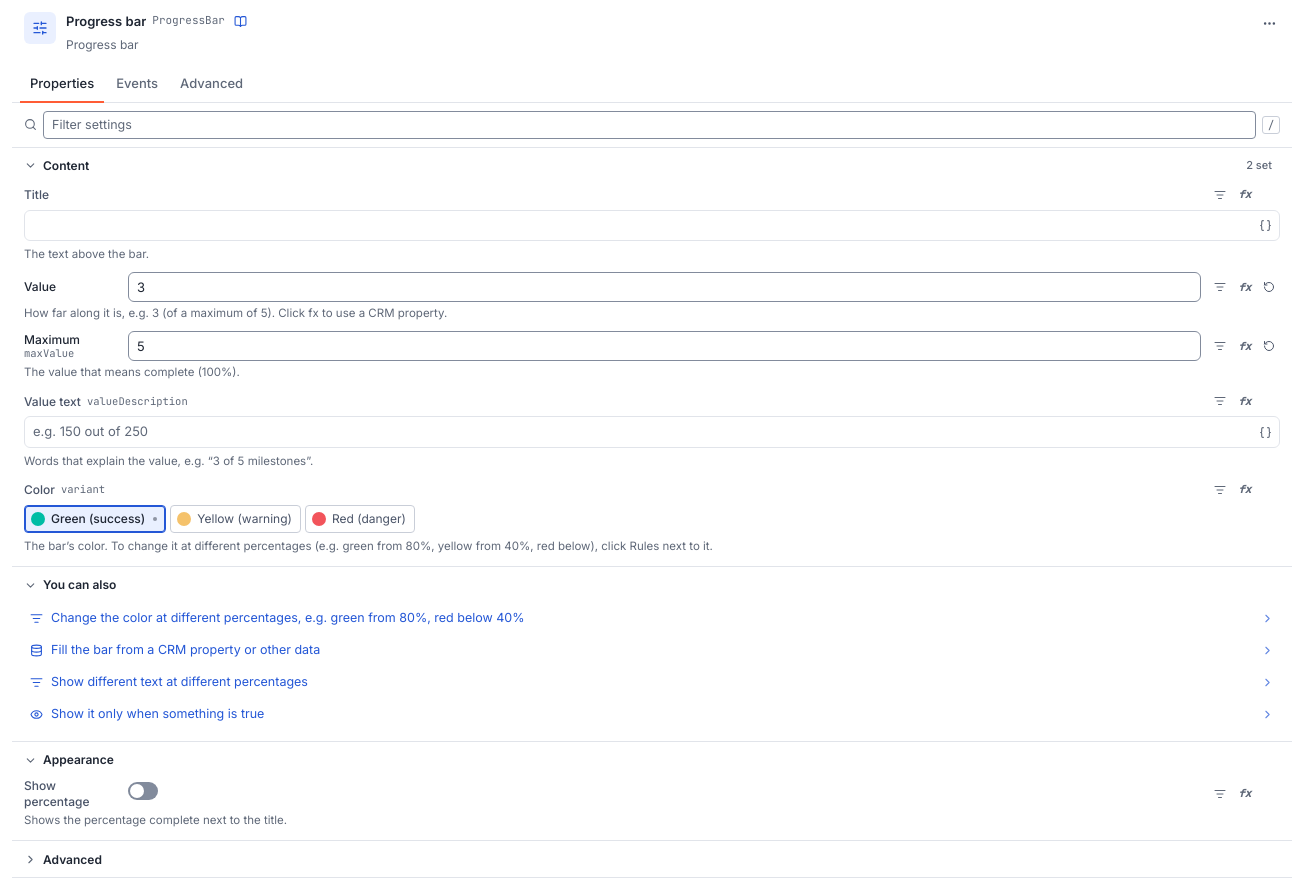
Test: plain labels, prop names and help text › hides help text from the header menu (remembered)
The image size is (1292, 879).
Click the button named "More actions". click: (1269,23)
box: [1258,12,1280,34]
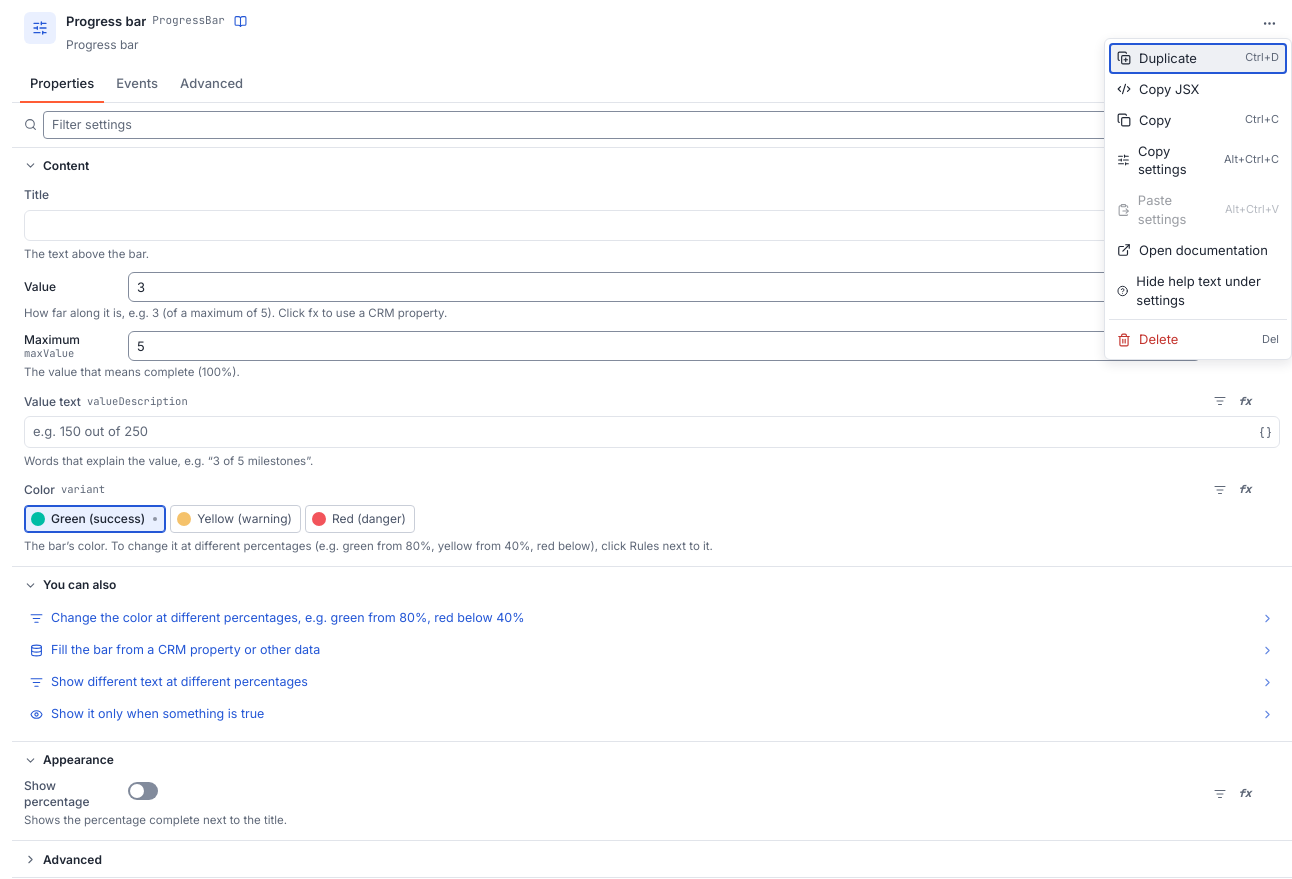
Click the menu item "Hide help text under settings". click: (1198,291)
box: [1109,266,1287,316]
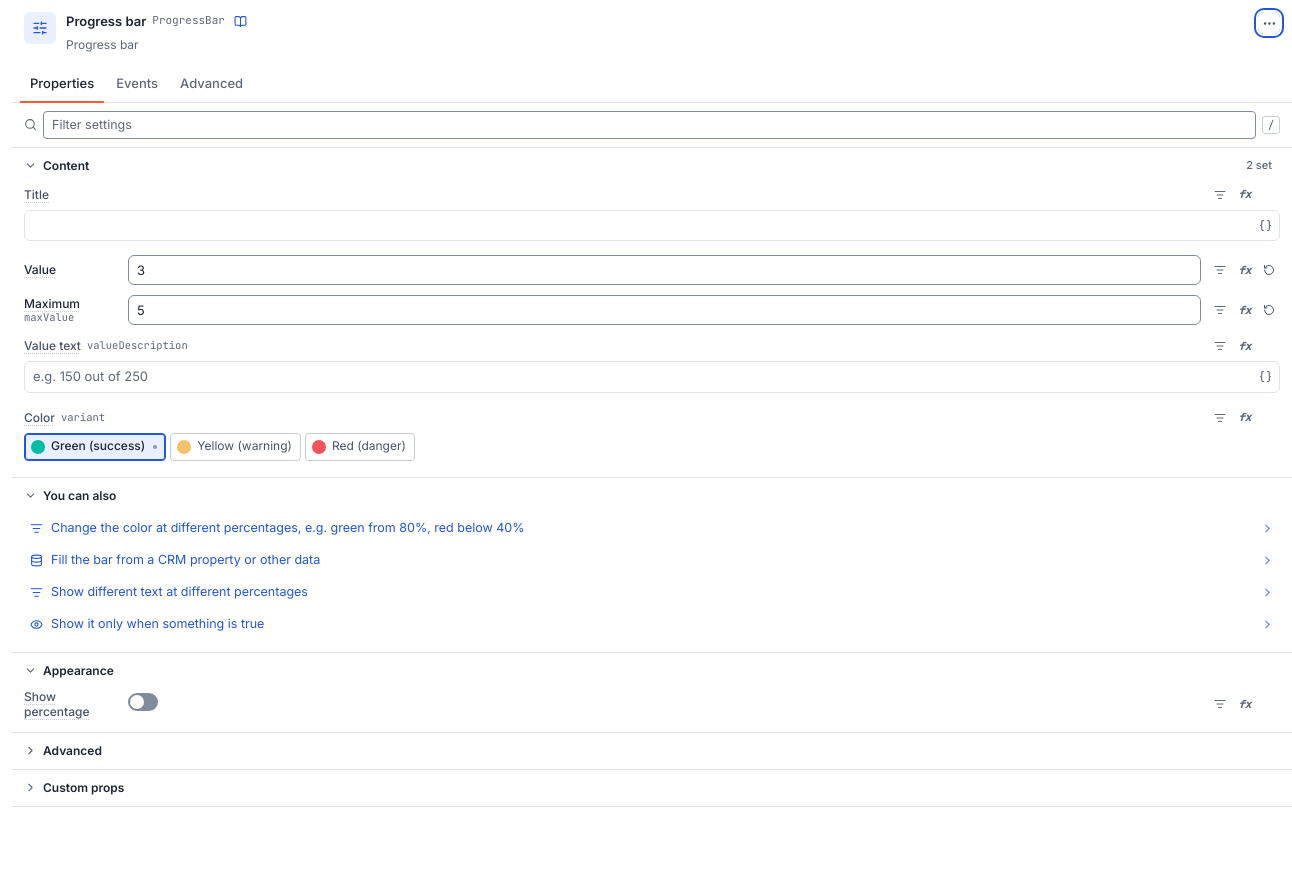
Expected: the text "The value that means complete" is gone
Click the button named "More actions". click: (1269,23)
box: [1258,12,1280,34]
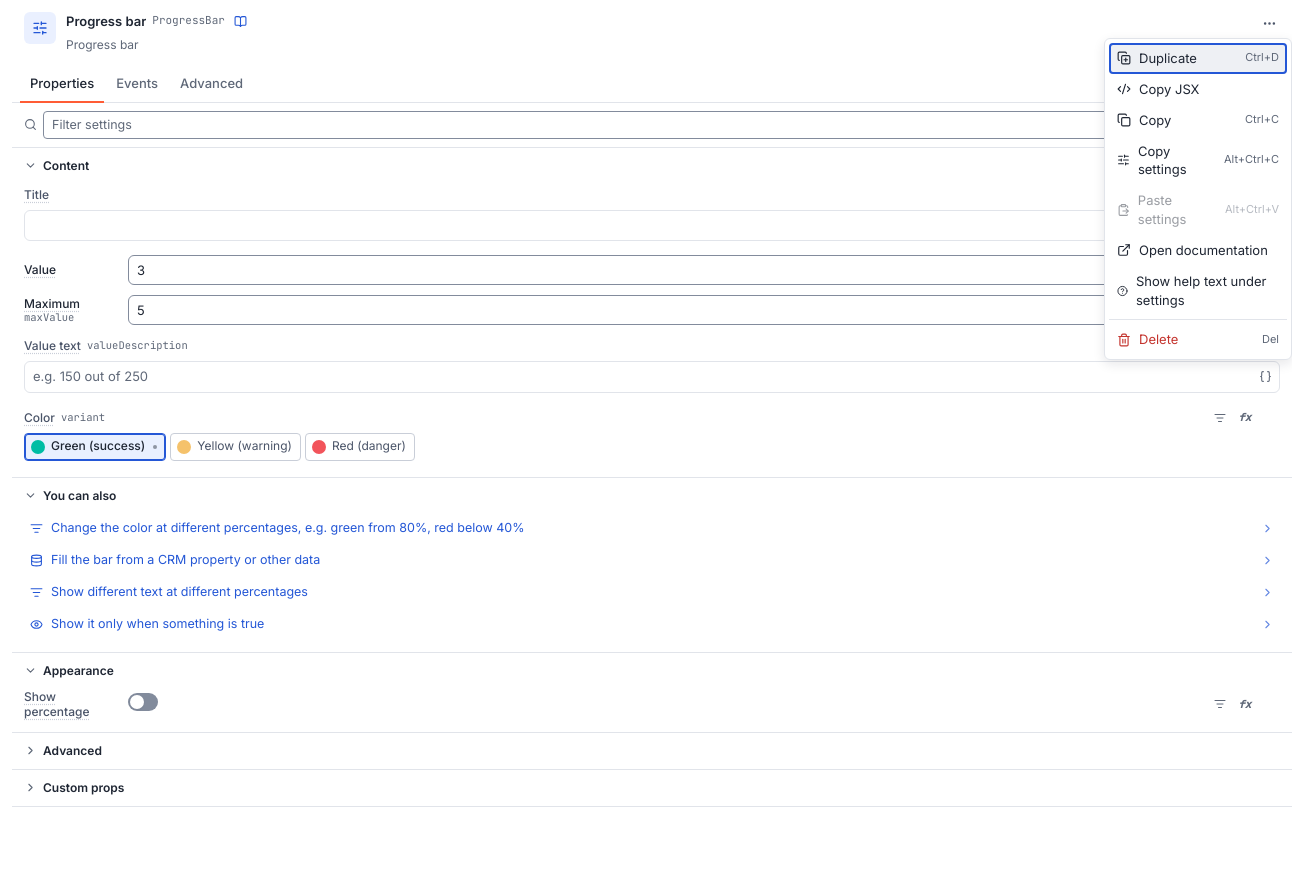
Click the menu item "Show help text under settings". click: (1198,291)
box: [1109,266,1287,316]
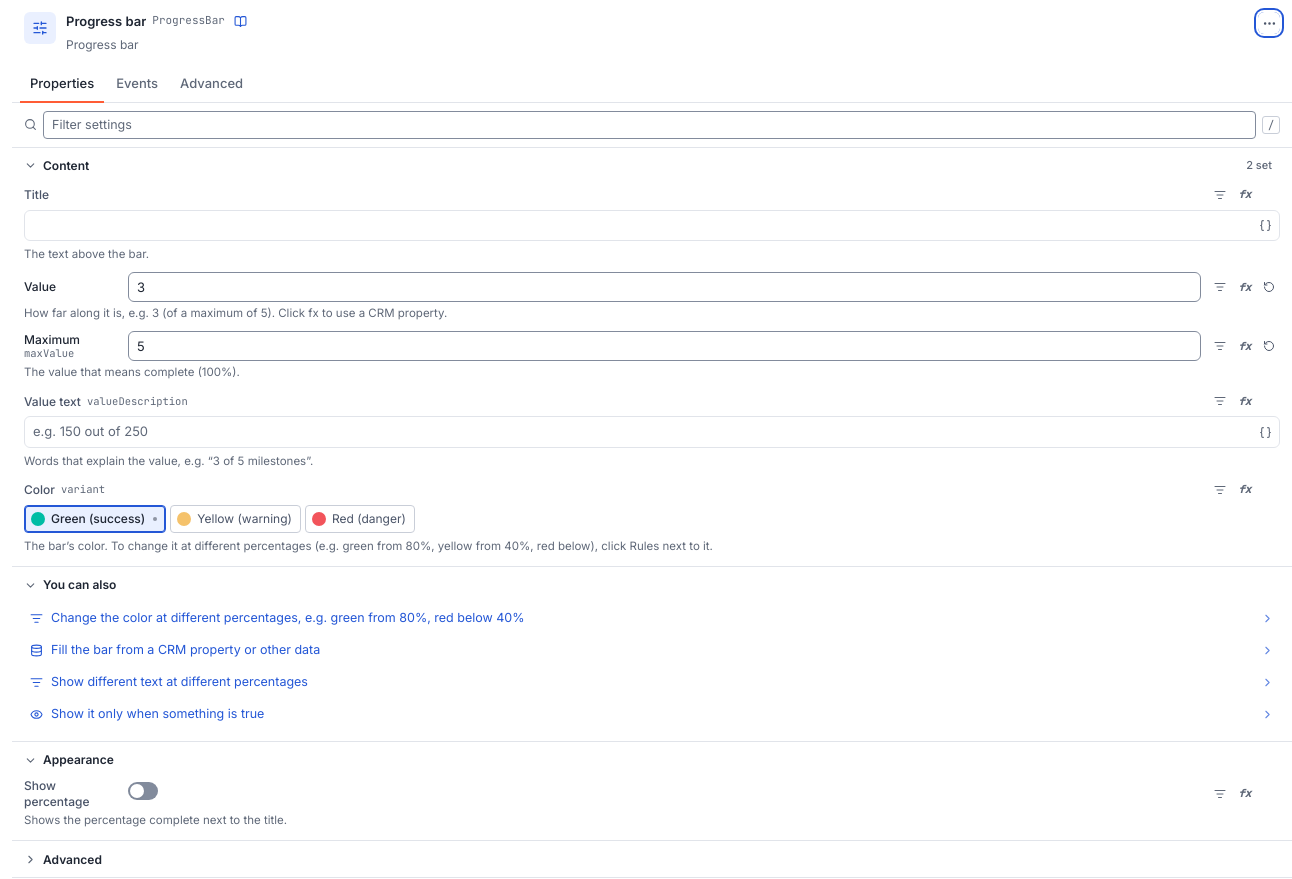
Expected: the text "The value that means complete (100%)." is shown, [24,365,240,379]
